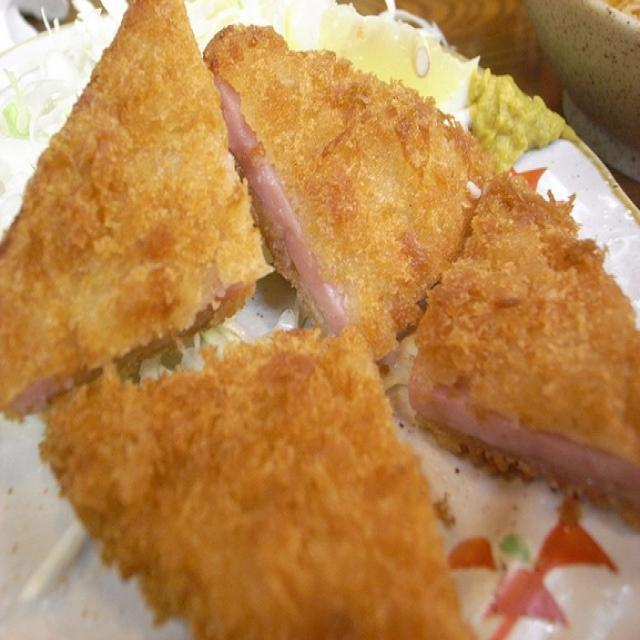炸货点心: (3, 5, 631, 631)
